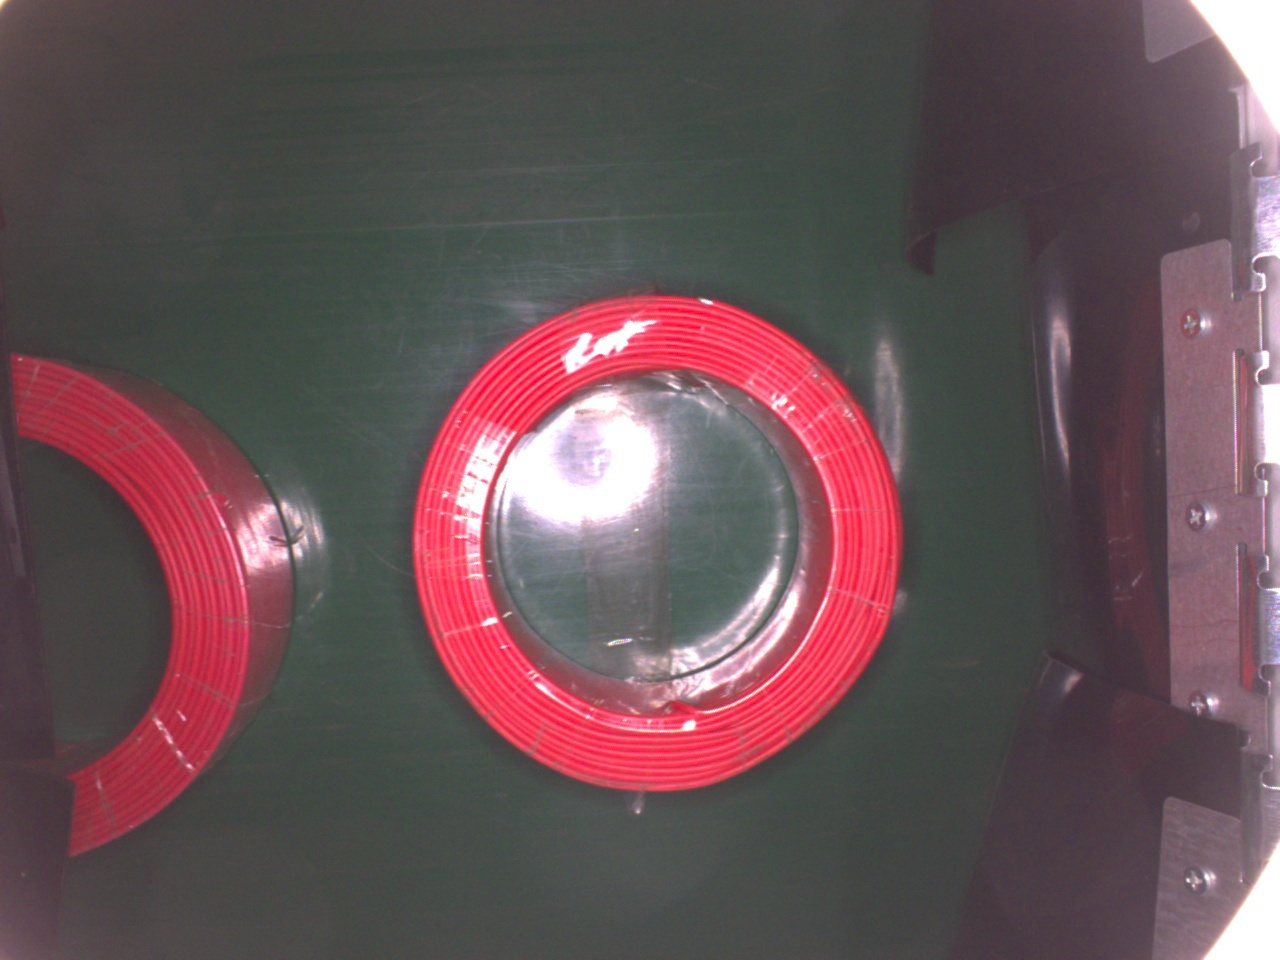red: (411, 290, 903, 803), (2, 344, 293, 853)
